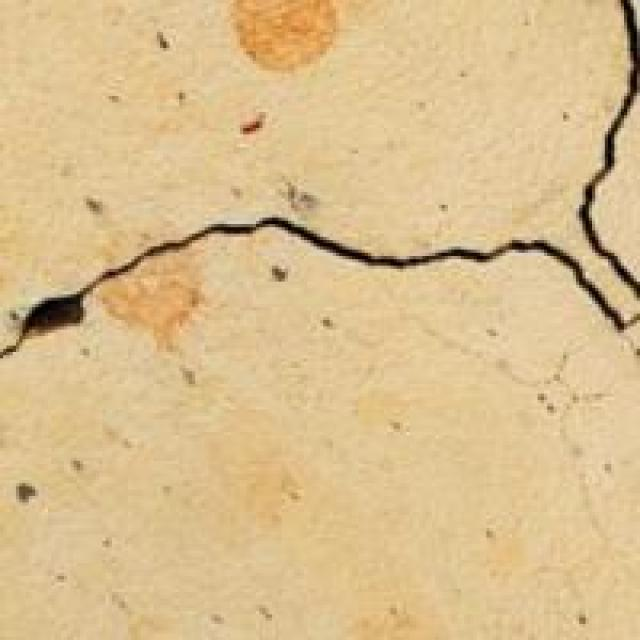crack: (0, 0, 637, 438)
